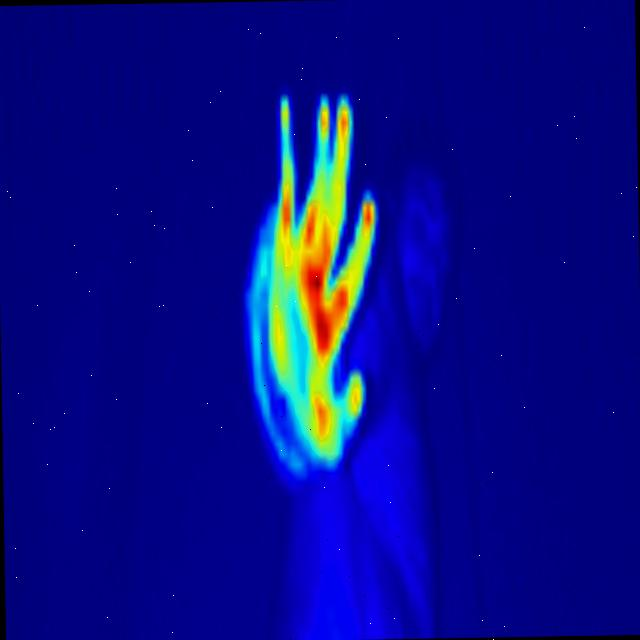hand: (256, 59, 393, 482)
